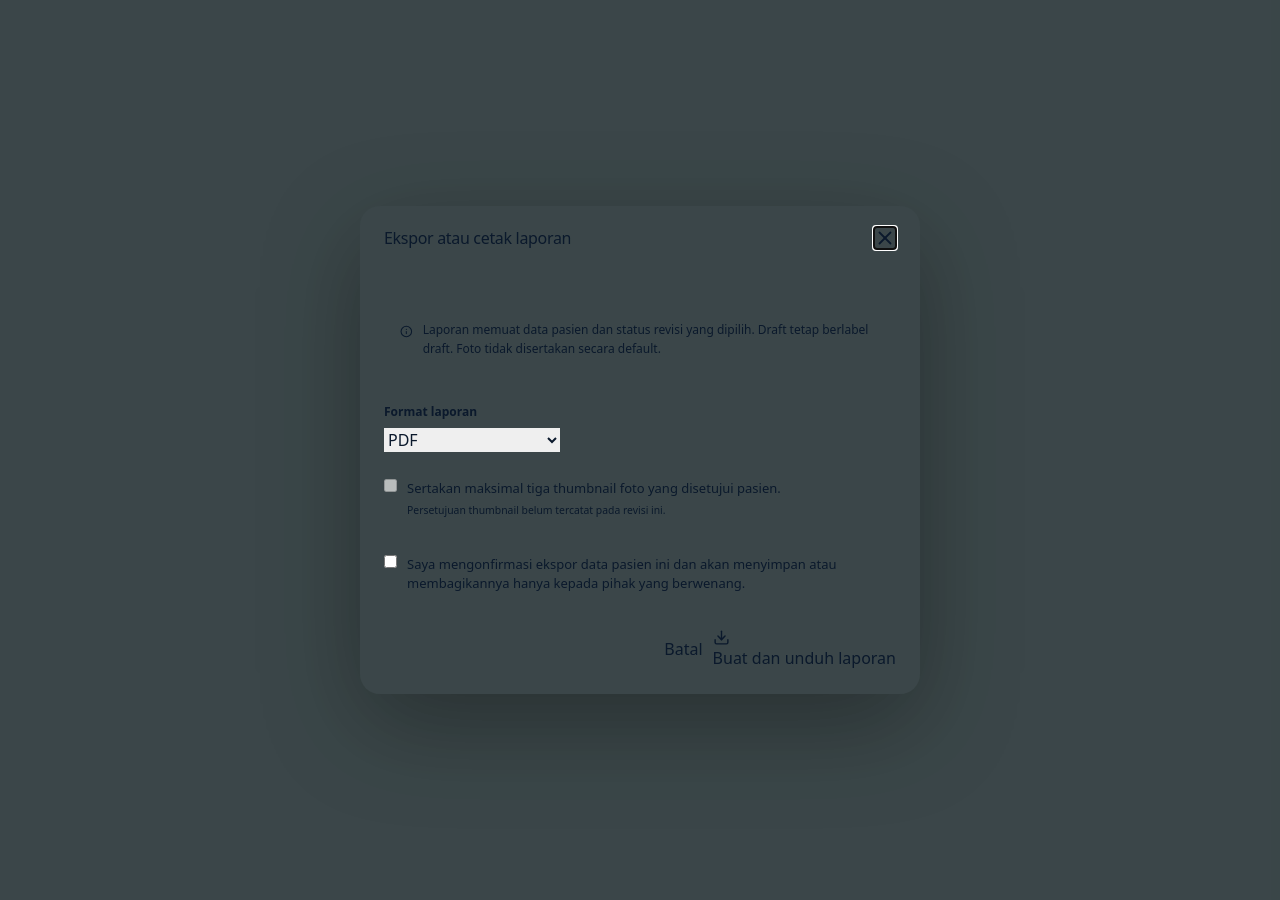
vault locking during export blocks download
Click the 2nd checkbox at (390, 561), box x1=384 y1=555 x2=397 y2=568
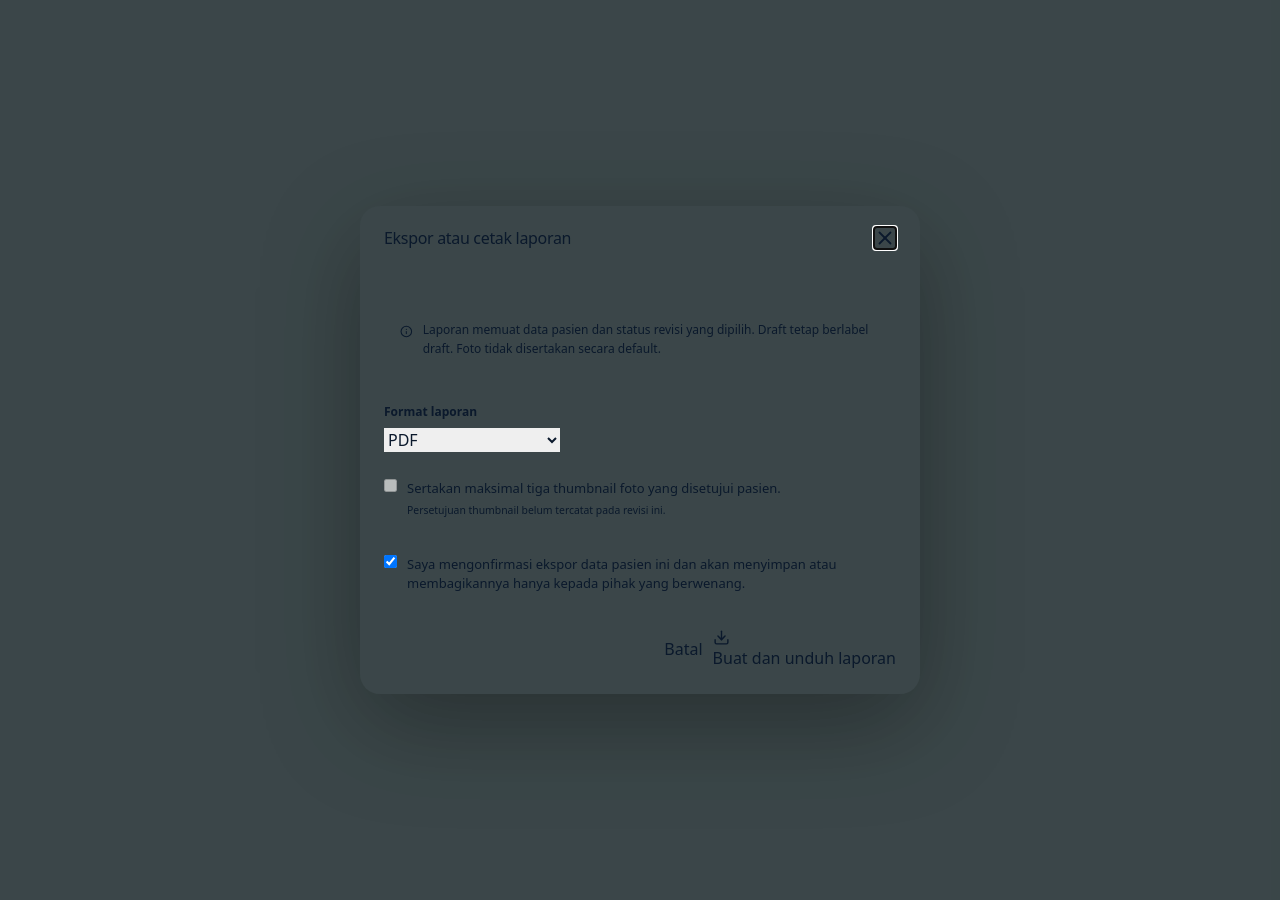
Submit the form, box x1=384 y1=294 x2=896 y2=670
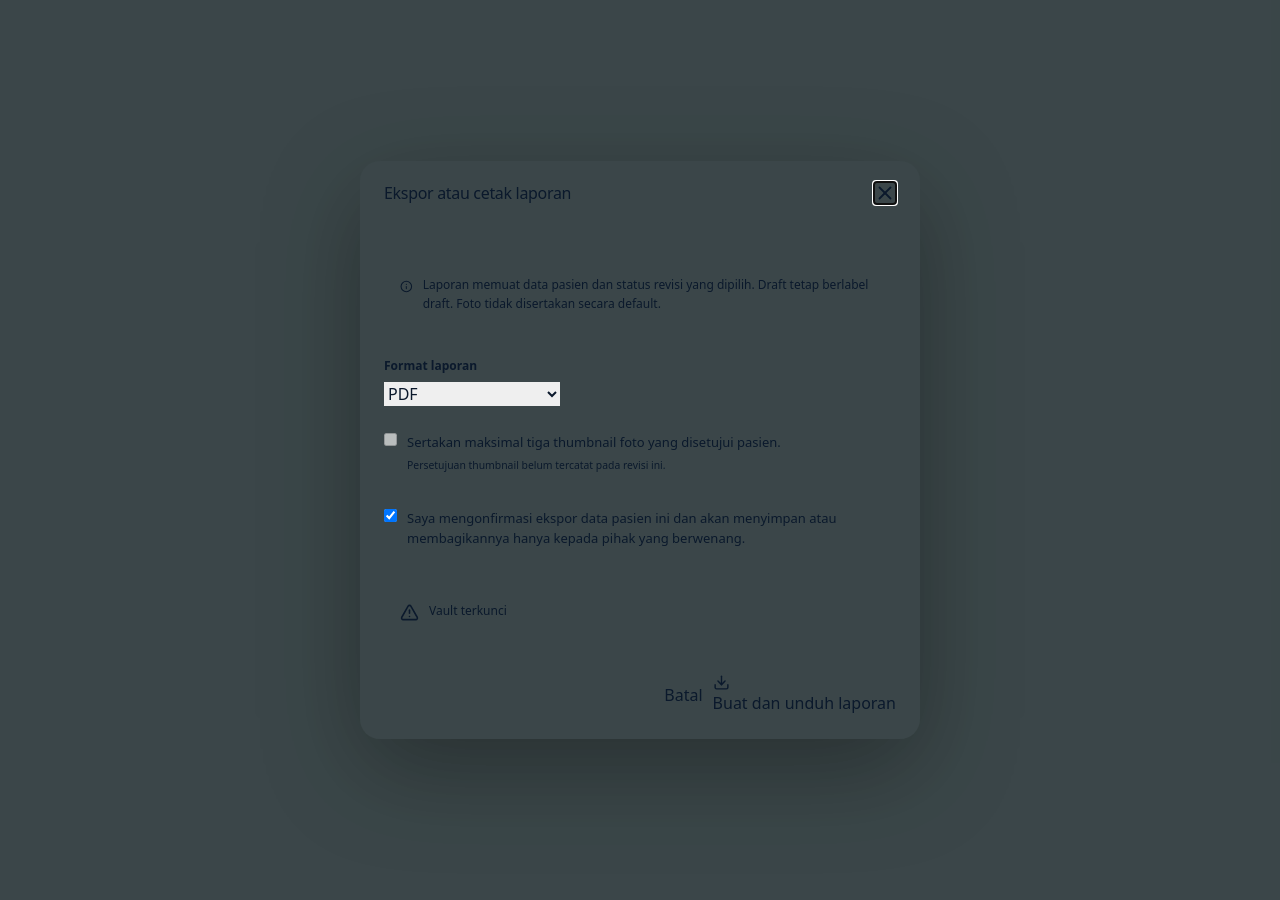
Expected: the text "Vault terkunci" is shown, x1=429 y1=601 x2=507 y2=620
